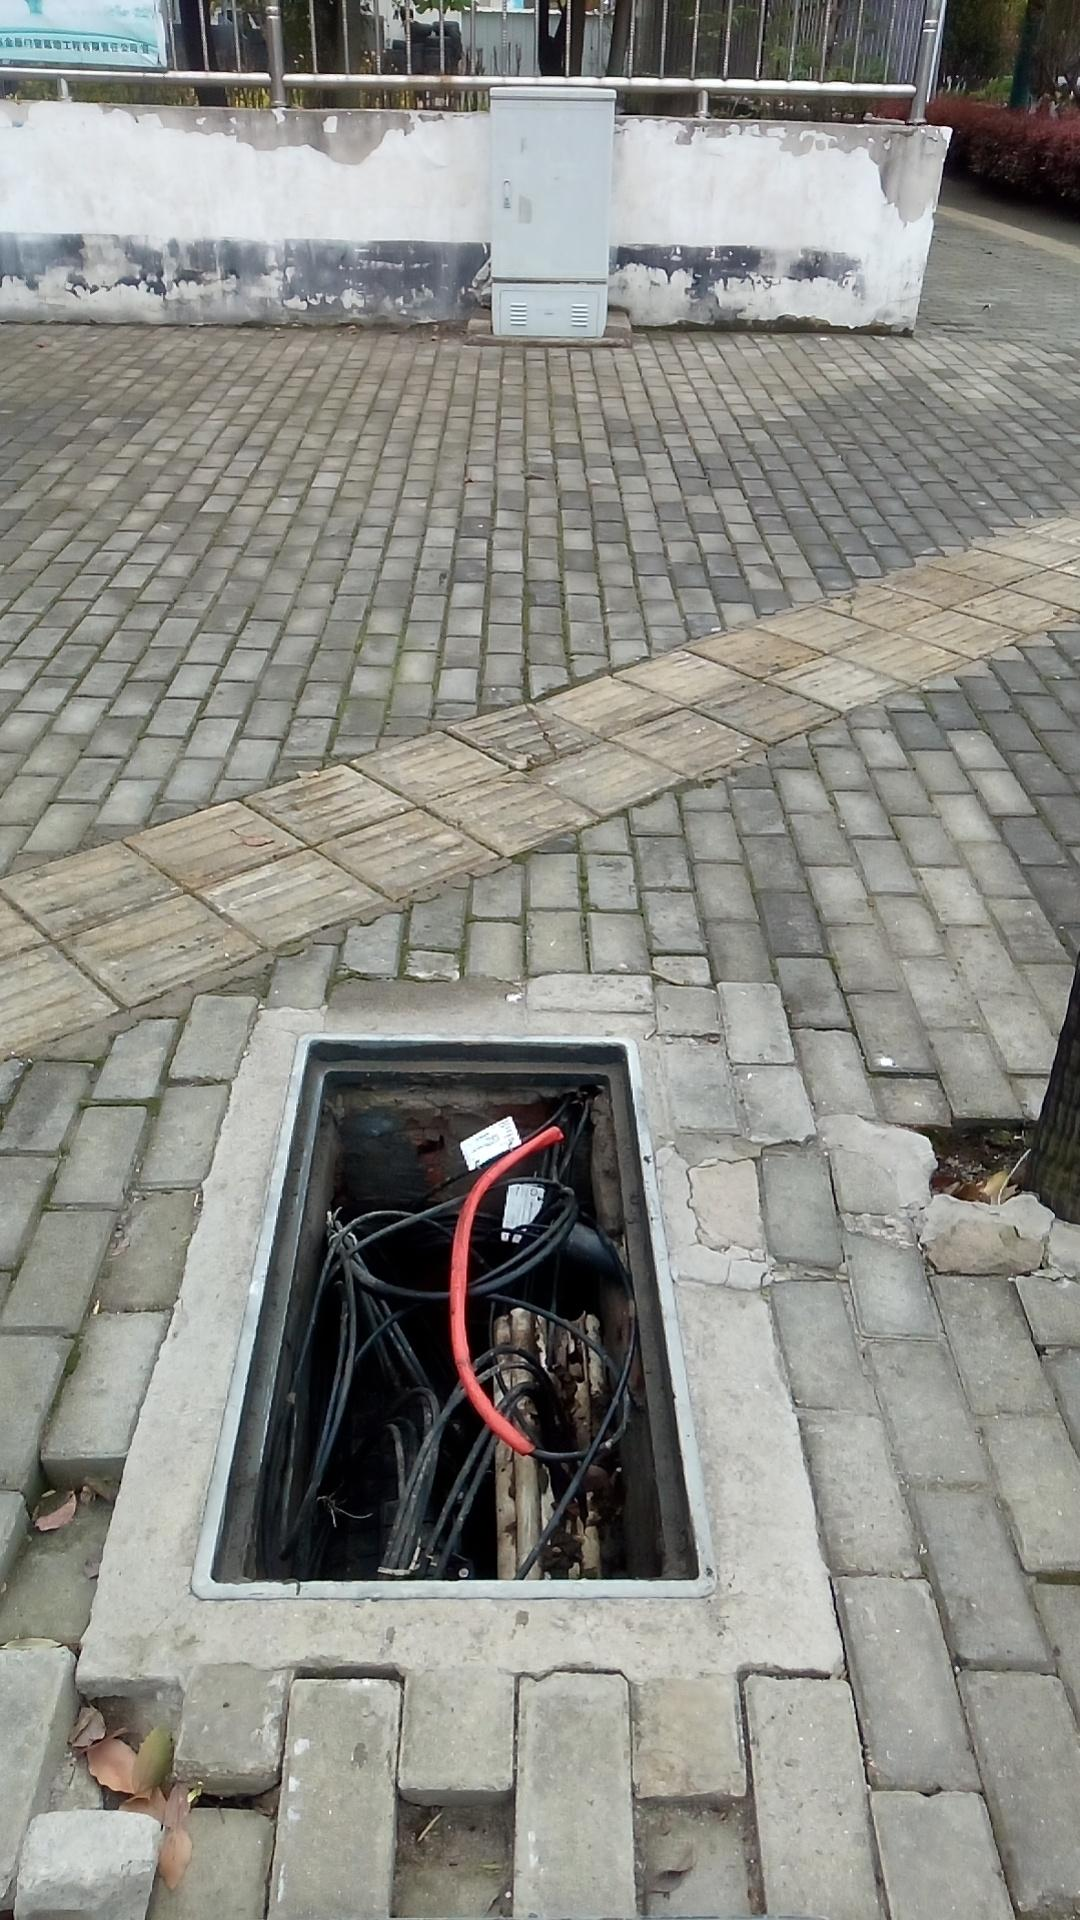wellcover: (154, 964, 735, 1660)
